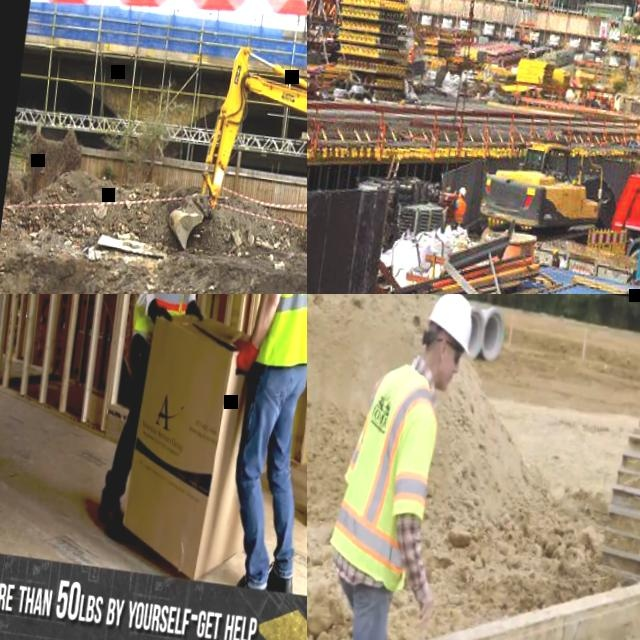Hardhat: (425, 294, 476, 350), (460, 187, 467, 195), (414, 39, 418, 45)
Person: (315, 294, 475, 640), (95, 294, 228, 543), (206, 294, 307, 593), (429, 335, 458, 394), (452, 186, 470, 229), (408, 40, 418, 63)
Safety Vest: (326, 352, 447, 595), (247, 294, 307, 370), (129, 294, 212, 332), (455, 198, 467, 223), (410, 47, 416, 61)
machinery: (166, 32, 307, 278), (479, 129, 625, 239)
